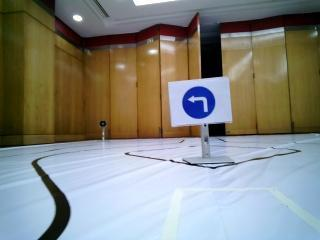left: (170, 82, 233, 120)
